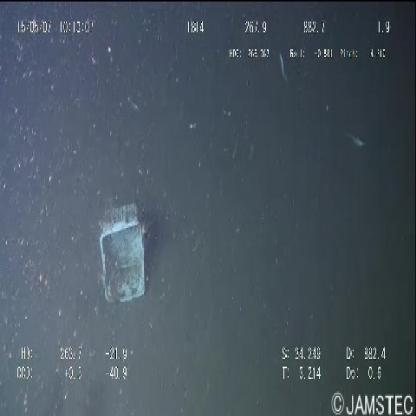Rác: (90, 197, 154, 313)
